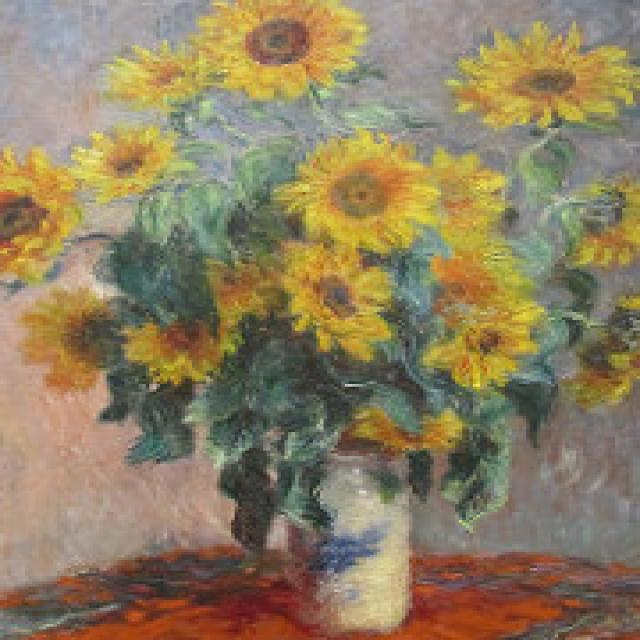sunflower: (444, 20, 640, 126), (192, 0, 373, 96), (289, 133, 429, 247), (0, 151, 111, 293), (268, 237, 394, 361), (17, 289, 125, 399), (537, 168, 640, 278), (64, 132, 197, 200), (125, 310, 214, 393), (103, 43, 208, 113)
